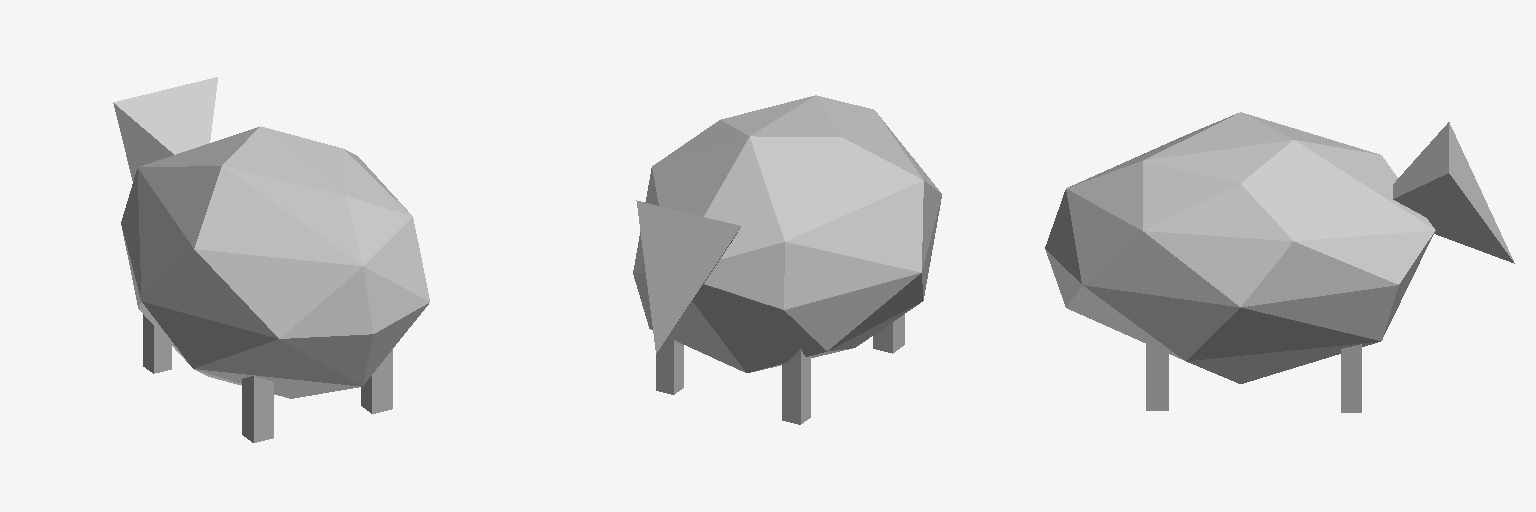
Rendered from sheep.obj.
The picture shows the model from 3 angles: view 1: azimuth 30°, elevation 25°; view 2: azimuth 150°, elevation 25°; view 3: azimuth 270°, elevation 25°; orthographic projection.
Parts seen in each view (by area): view 1: Cube_Cube.007; view 2: Cube_Cube.007; view 3: Cube_Cube.007.
Boxes of the visible parts, x1=… form: Cube_Cube.007: x1=113, y1=77, x2=429, y2=442; Cube_Cube.007: x1=633, y1=95, x2=941, y2=424; Cube_Cube.007: x1=1045, y1=112, x2=1514, y2=412.
Bounding box in the file's own units: 3.95 × 3.43 × 5.99.